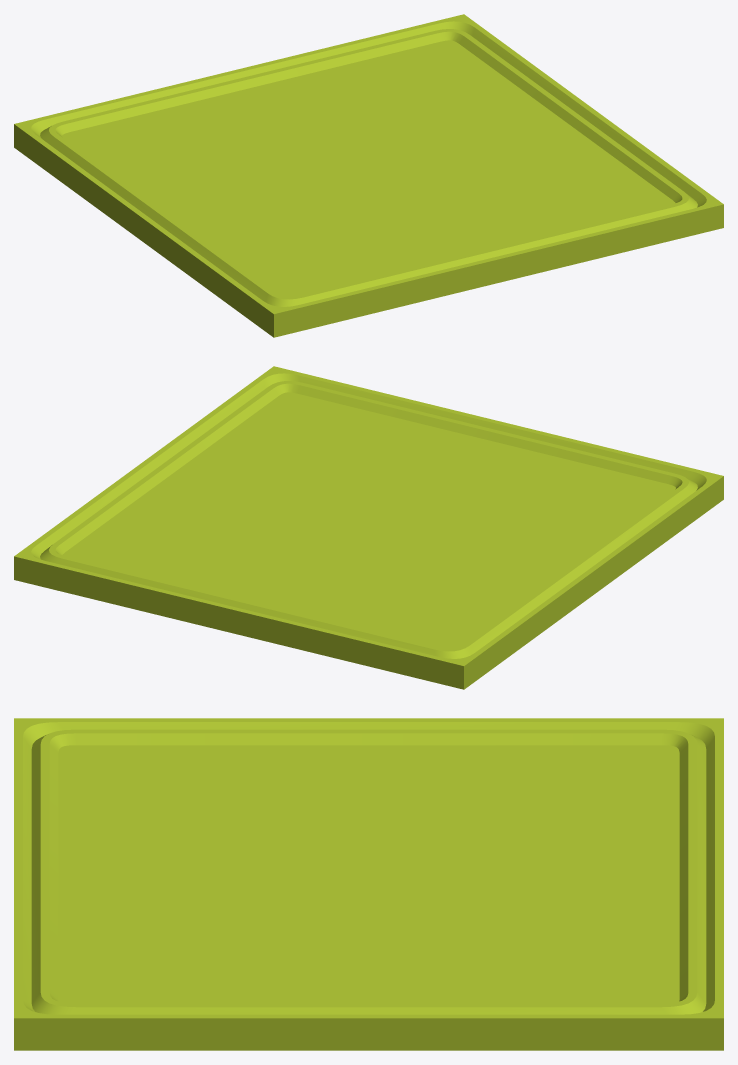
File: Rooms_Floor_Line_A.FBX
3 renders of one model, top to bottom at view 1: azimuth 30°, elevation 25°; view 2: azimuth 150°, elevation 25°; view 3: azimuth 270°, elevation 25°, orthographic. The views are drawn at different scales.
Visible parts, largest first — view 1: Rooms_Floor_Line_A; view 2: Rooms_Floor_Line_A; view 3: Rooms_Floor_Line_A.
Part boxes in pixels (x1=…): Rooms_Floor_Line_A: x1=14, y1=14, x2=723, y2=337; Rooms_Floor_Line_A: x1=14, y1=366, x2=723, y2=689; Rooms_Floor_Line_A: x1=14, y1=718, x2=723, y2=1050.
Bounding box in the file's own units: 400 × 20 × 400.
